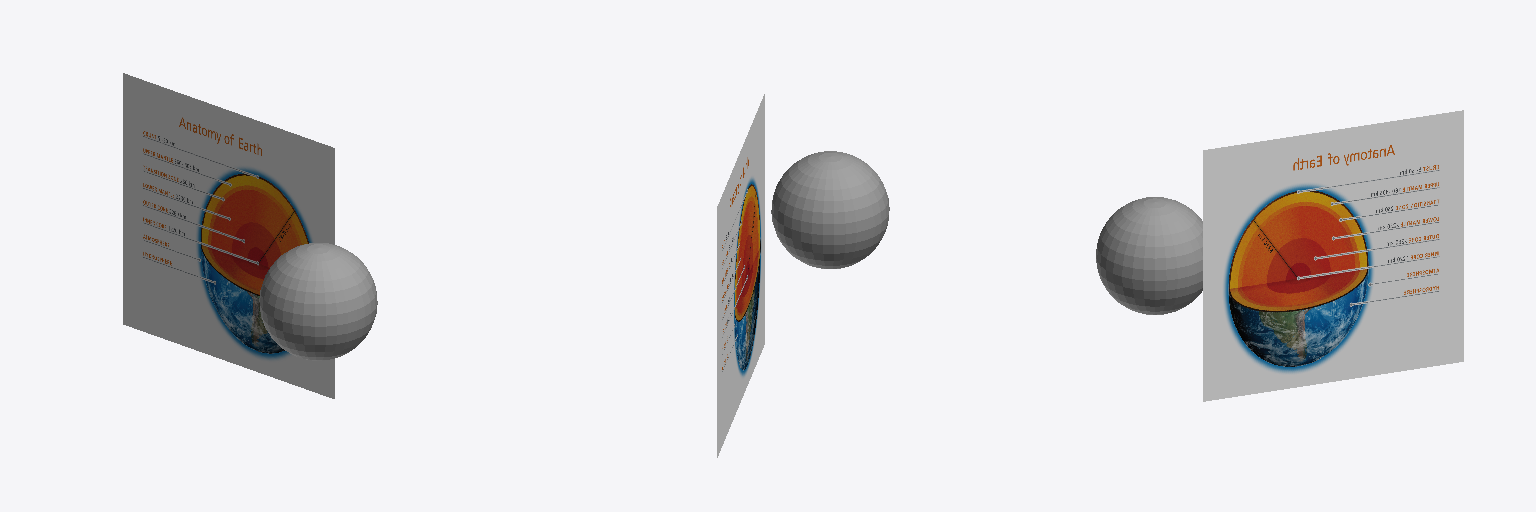
3 renders of one model, left to right at view 1: azimuth 30°, elevation 25°; view 2: azimuth 150°, elevation 25°; view 3: azimuth 270°, elevation 25°, orthographic.
Visible parts, largest first — view 1: Plane, Earth; view 2: Plane, Earth; view 3: Plane, Earth.
Boxes of the visible parts, box(x1,y1,x2,y2) form: Plane: box(123, 73, 334, 398); Earth: box(259, 243, 377, 360); Plane: box(717, 94, 764, 457); Earth: box(771, 151, 889, 268); Plane: box(1203, 110, 1463, 401); Earth: box(1096, 197, 1202, 314).
Bounding box in the file's own units: 12.82 × 30 × 39.83.
Materials: 2 (1 with a texture image).